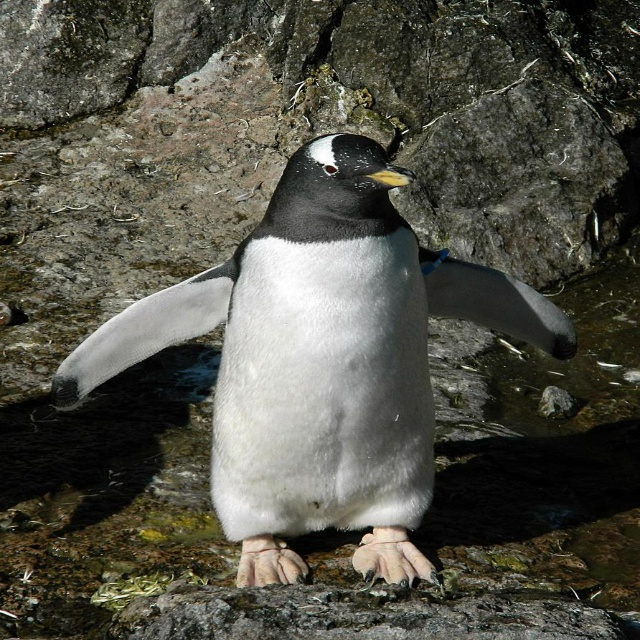Penguin: (50, 133, 577, 589)
